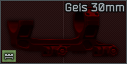Geissele Super Precision 30mm ring scope mount: (0, 0, 127, 64)
